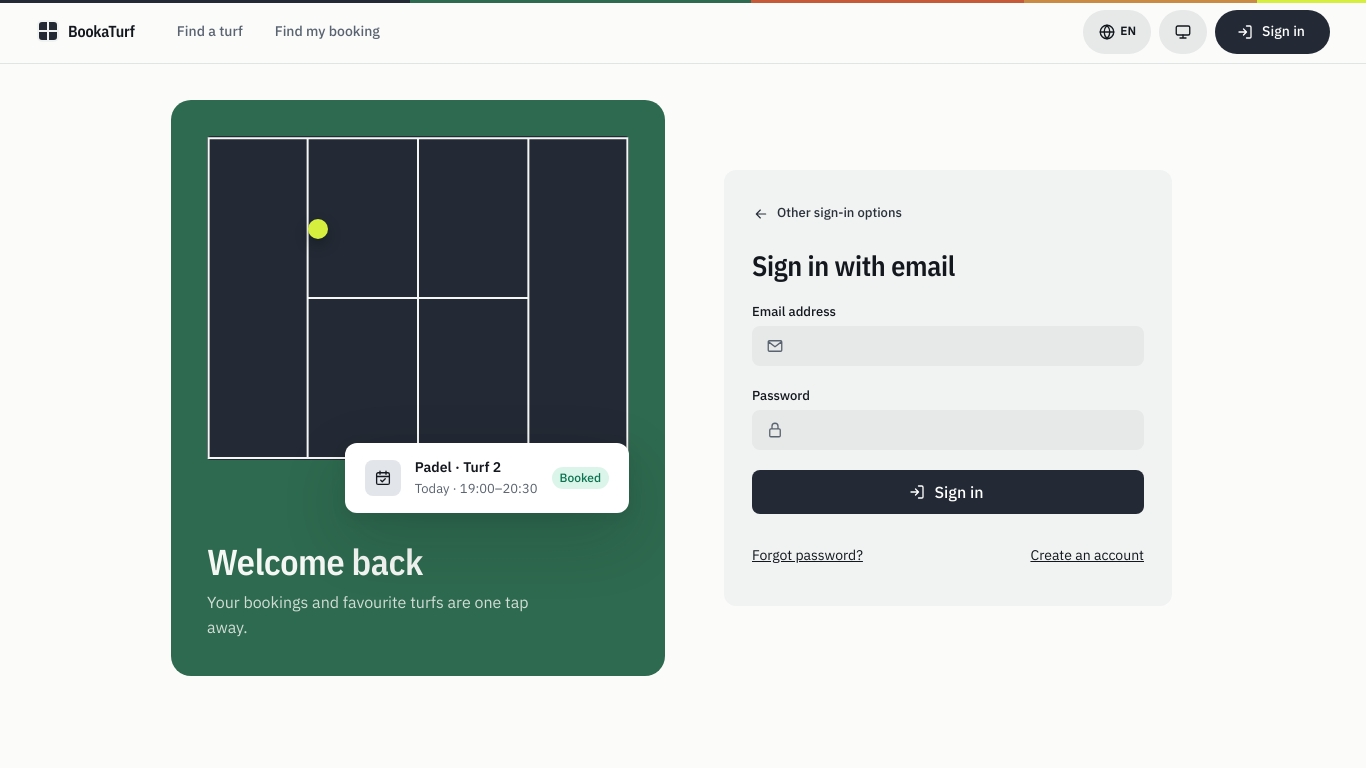
Scenario: LoginPage › a chosen method links back to the choices, and email offers forgot-password
This screenshot has width=1366, height=768.
Click the link "Other sign-in options": (827, 213) x1=753 y1=204 x2=902 y2=222
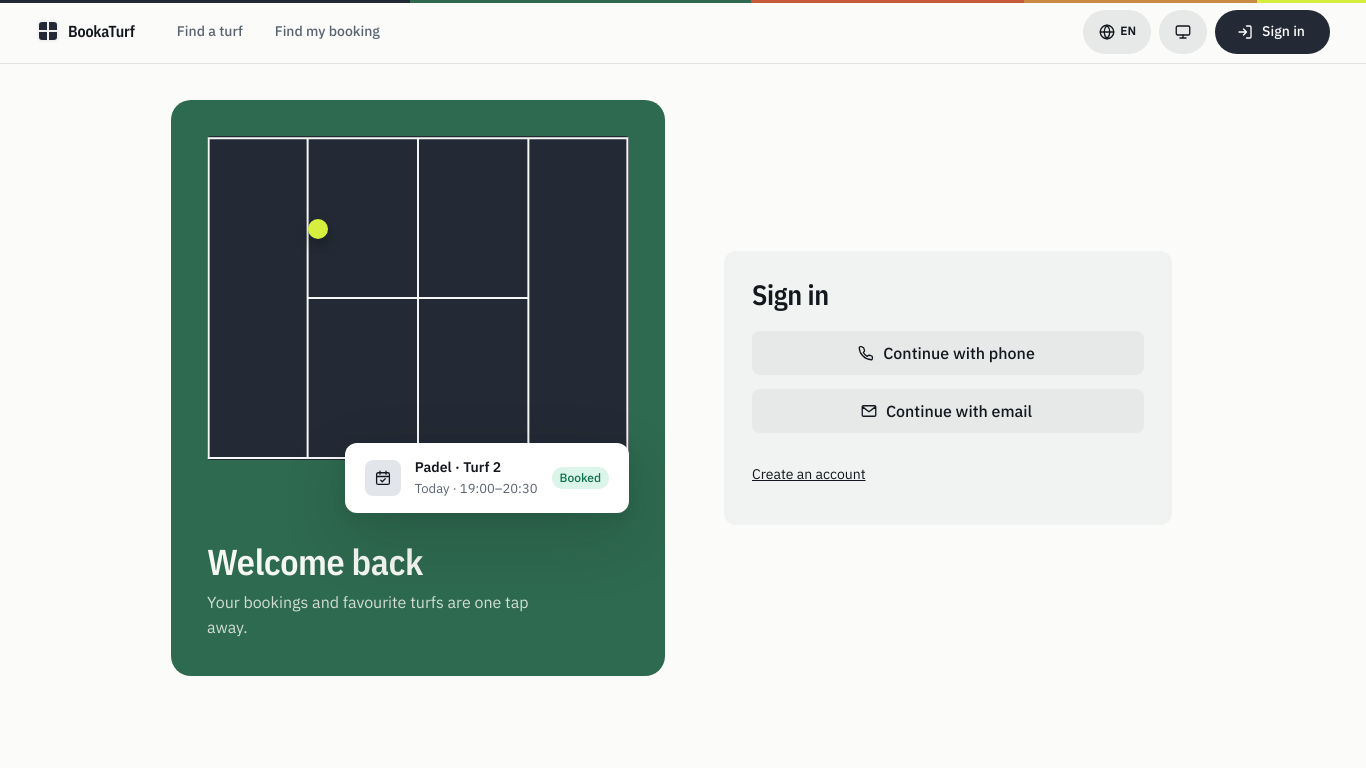
Expected: the link "Continue with phone" is shown, x1=752 y1=331 x2=1144 y2=375
